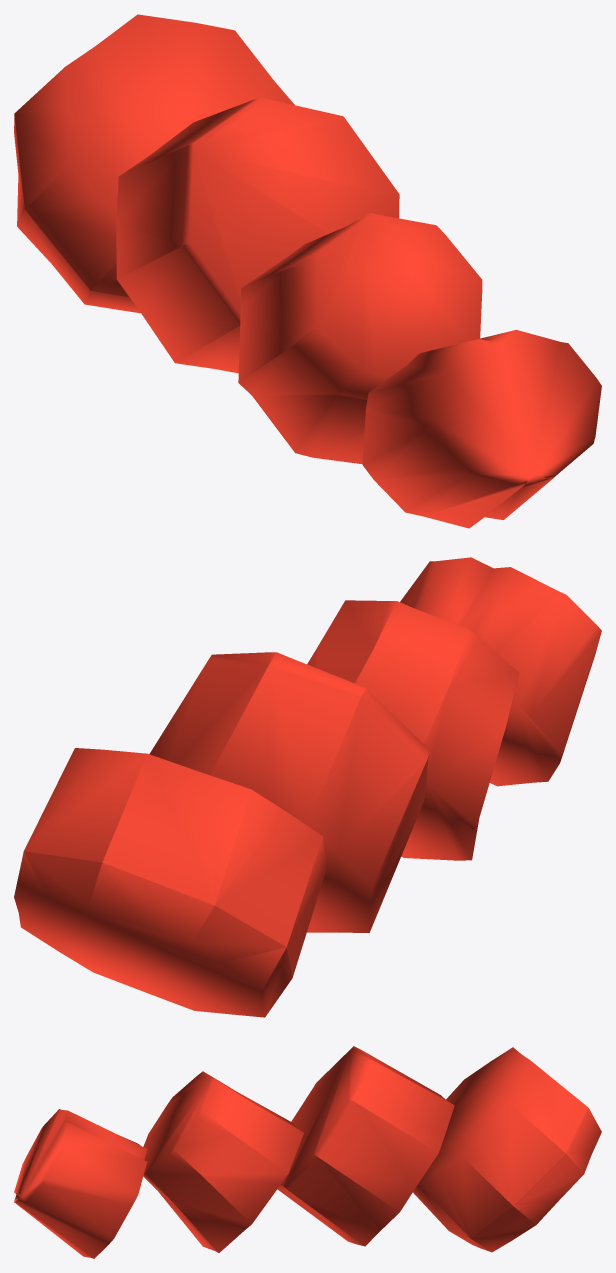
File: Carrot_Cutted.fbx
The picture shows the model from 3 angles, top to bottom: view 1: azimuth 30°, elevation 25°; view 2: azimuth 150°, elevation 25°; view 3: azimuth 270°, elevation 25°; orthographic projection. The views are drawn at different scales.
Parts seen in each view (by area): view 1: Carrot_Cutted; view 2: Carrot_Cutted; view 3: Carrot_Cutted.
Boxes of the visible parts, bbox=[...] form: Carrot_Cutted: bbox=[14, 14, 601, 528]; Carrot_Cutted: bbox=[14, 557, 601, 1017]; Carrot_Cutted: bbox=[14, 1046, 601, 1258].
Size of the model in its own units: 4.75 by 14.8 by 5.28.
